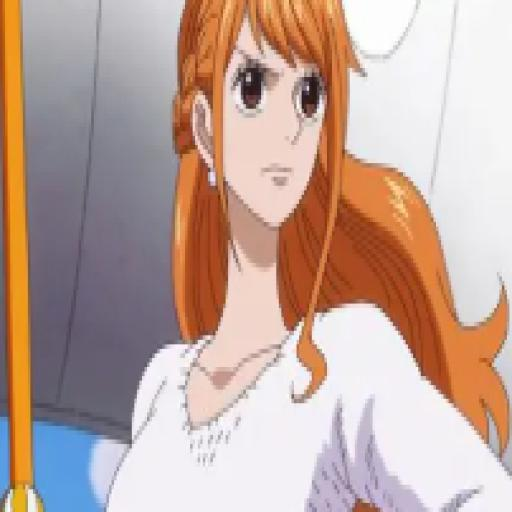Nami: (87, 2, 512, 511)
